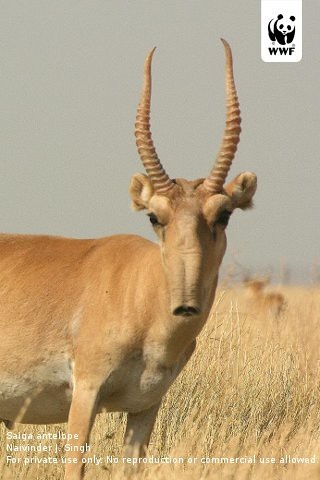saiga: (1, 33, 262, 473)
